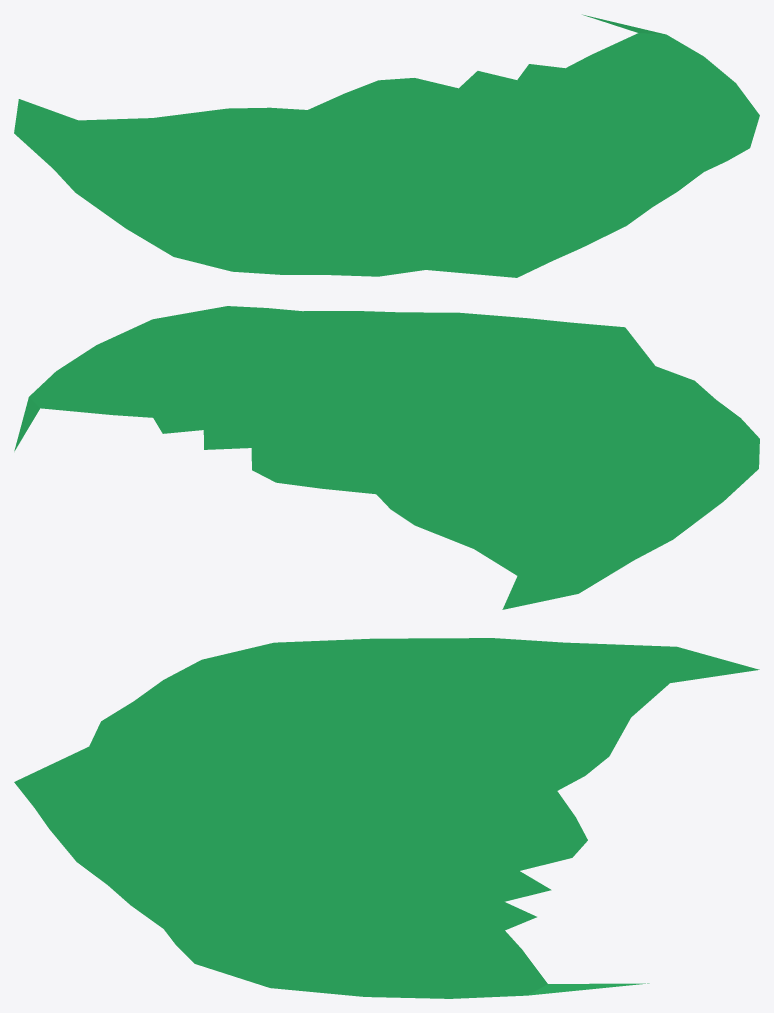
The model's file is Rand02_Plane.fbx.
The picture shows the model from 3 angles, top to bottom: view 1: azimuth 30°, elevation 25°; view 2: azimuth 150°, elevation 25°; view 3: azimuth 270°, elevation 25°; orthographic projection. The views are drawn at different scales.
Visible parts, largest first — view 1: Rand02.001; view 2: Rand02.001; view 3: Rand02.001.
Boxes of the visible parts, x1=… form: Rand02.001: x1=14, y1=14, x2=759, y2=277; Rand02.001: x1=14, y1=306, x2=759, y2=609; Rand02.001: x1=14, y1=638, x2=759, y2=998.
Size of the model in its own units: 1849 by 22.04 by 1615.
